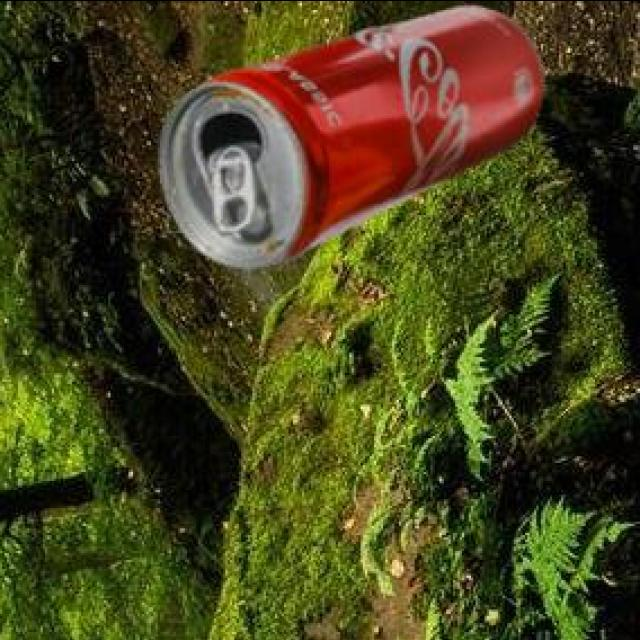logam: (157, 1, 540, 263)
